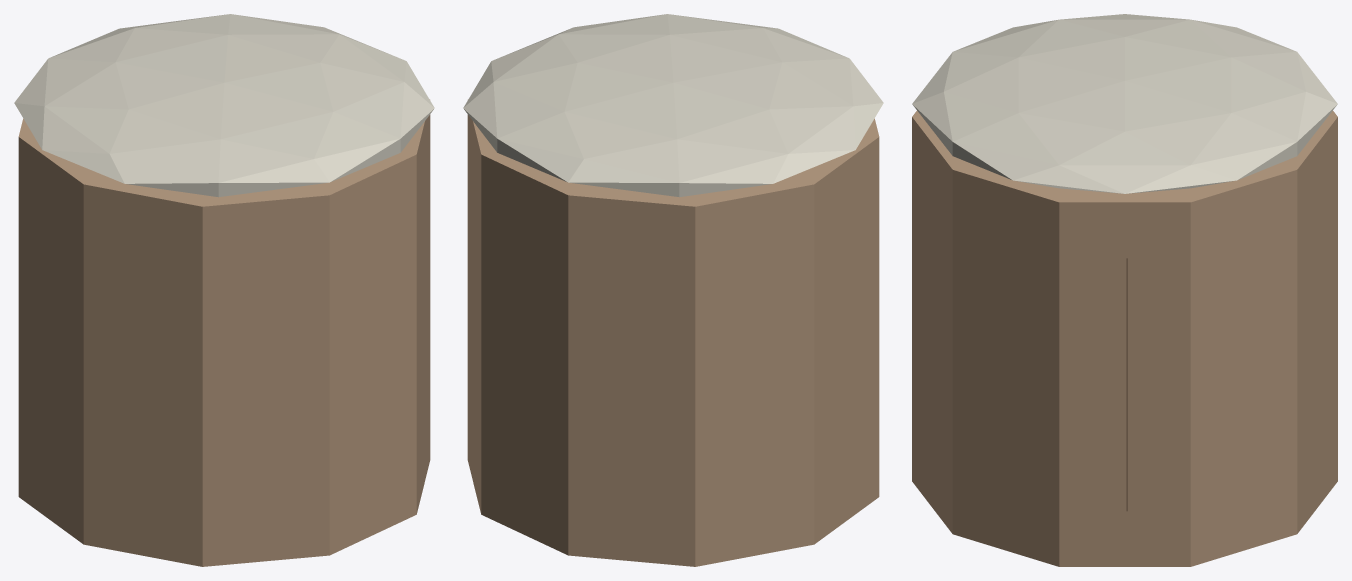
Rendered from tree_stump.glb.
The picture shows the model from 3 angles, left to right: view 1: azimuth 30°, elevation 25°; view 2: azimuth 150°, elevation 25°; view 3: azimuth 270°, elevation 25°; orthographic projection.
Visible parts, largest first — view 1: Trunk, Top; view 2: Trunk, Top; view 3: Trunk, Top, Bark_0.
Part boxes in pixels (x1,y1,x2,y2): Trunk: (18,99,430,566); Top: (14,14,434,197); Trunk: (467,99,879,566); Top: (463,14,883,197); Trunk: (912,111,1337,566); Top: (912,14,1337,193); Bark_0: (1126,258,1128,511).
Size of the model in its own units: 0.9 by 0.934 by 0.9.
